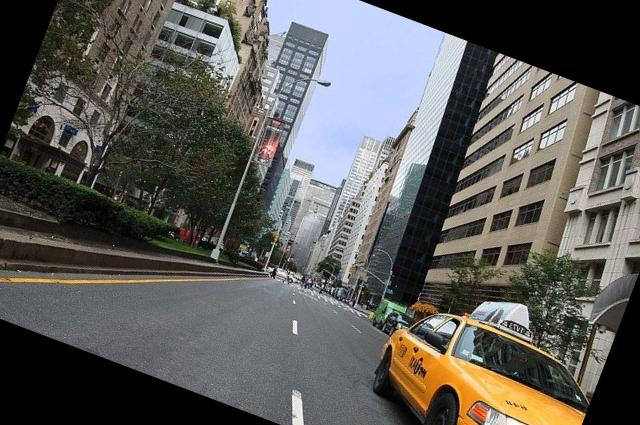taxi: (367, 292, 589, 425)
